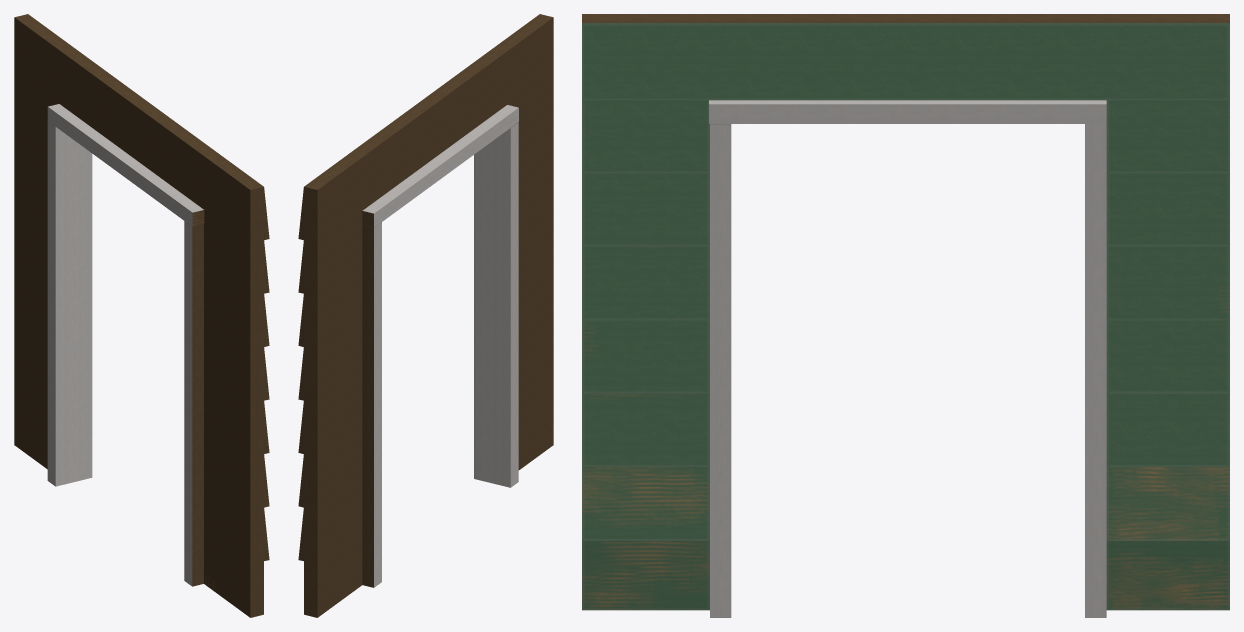
Rendered from WallwDoorFrame.fbx.
The picture shows the model from 3 angles, left to right: view 1: azimuth 30°, elevation 25°; view 2: azimuth 150°, elevation 25°; view 3: azimuth 270°, elevation 25°; orthographic projection. The views are drawn at different scales.
Parts seen in each view (by area): view 1: WallwDoorFrame; view 2: WallwDoorFrame; view 3: WallwDoorFrame.
Boxes of the visible parts, left/top/right/bottom form: WallwDoorFrame: left=14, top=14, right=269, bottom=617; WallwDoorFrame: left=298, top=14, right=553, bottom=617; WallwDoorFrame: left=582, top=14, right=1229, bottom=617.
Bounding box in the file's own units: 28.28 × 316 × 316.
